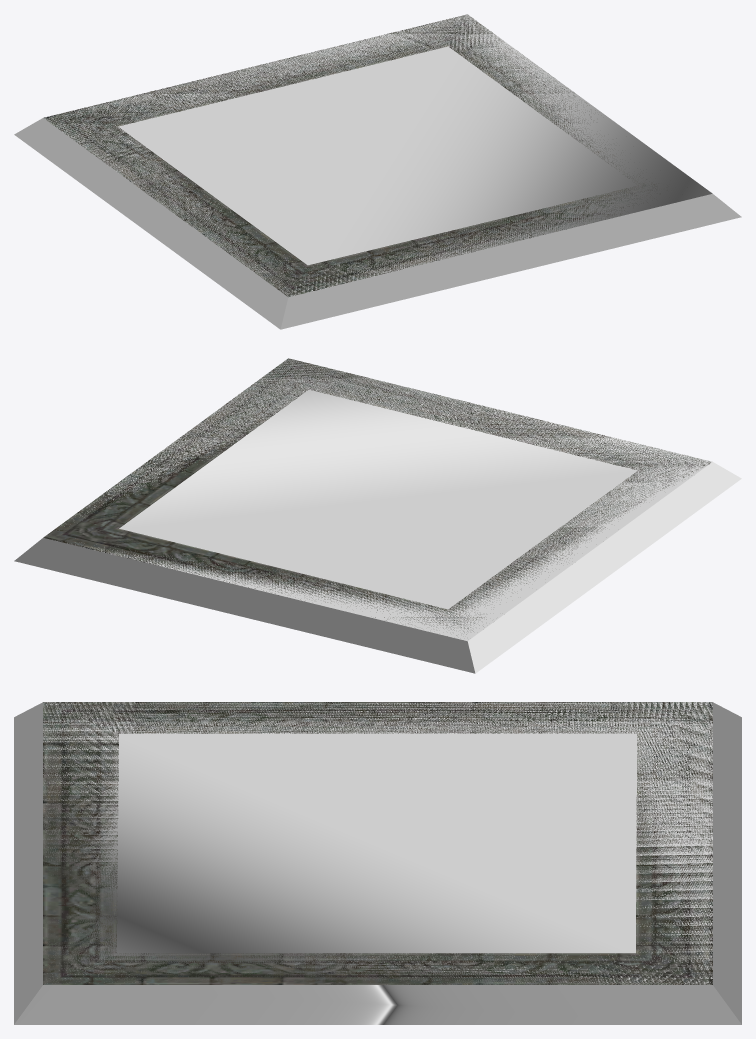
The model's file is YHJ_dimian_b.FBX.
The picture shows the model from 3 angles, top to bottom: view 1: azimuth 30°, elevation 25°; view 2: azimuth 150°, elevation 25°; view 3: azimuth 270°, elevation 25°; orthographic projection. The views are drawn at different scales.
Visible parts, largest first — view 1: YHJ_dimian_b-col, YHJ_dimian_b; view 2: YHJ_dimian_b-col, YHJ_dimian_b; view 3: YHJ_dimian_b-col, YHJ_dimian_b.
Part boxes in pixels (bbox=[...]): YHJ_dimian_b-col: bbox=[14, 14, 741, 329]; YHJ_dimian_b: bbox=[44, 14, 660, 297]; YHJ_dimian_b-col: bbox=[14, 358, 741, 673]; YHJ_dimian_b: bbox=[43, 358, 710, 635]; YHJ_dimian_b-col: bbox=[14, 702, 741, 1024]; YHJ_dimian_b: bbox=[43, 702, 712, 984].
Size of the model in its own units: 5.43 by 0.2264 by 5.44.
